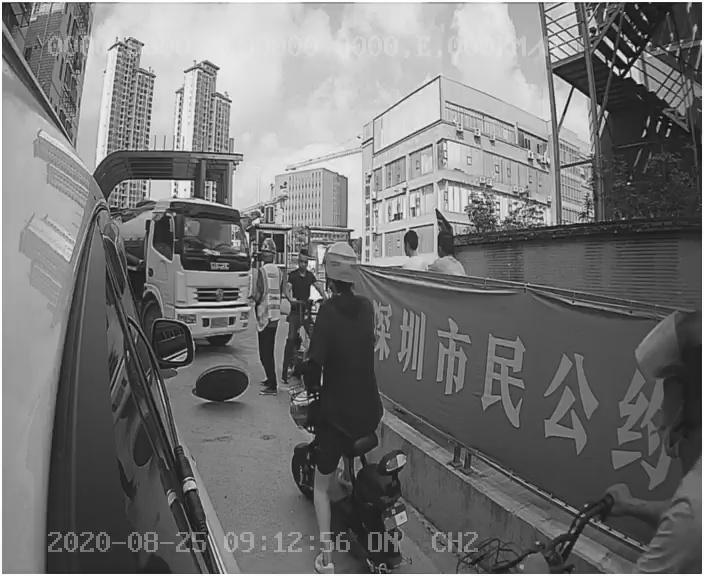person: (247, 238, 289, 398)
